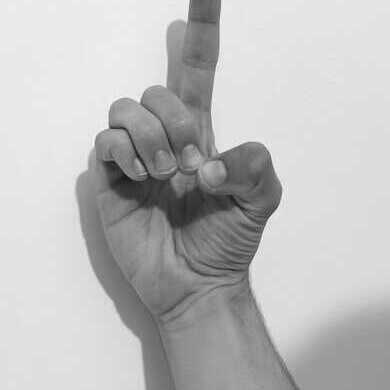D: (92, 1, 287, 325)
